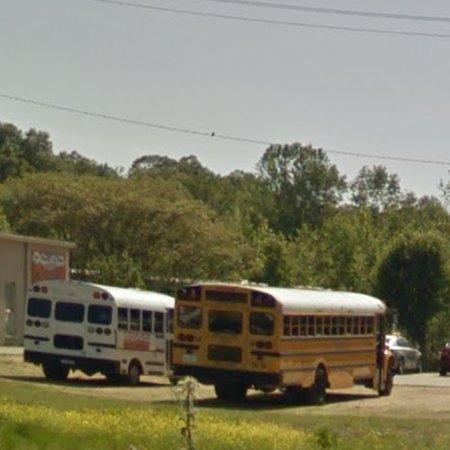buses: (172, 283, 394, 400), (24, 281, 175, 383)
